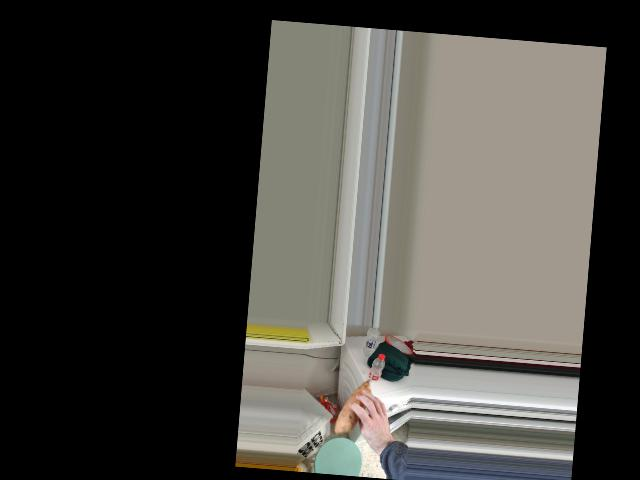sweet_potato: (336, 381, 380, 427)
